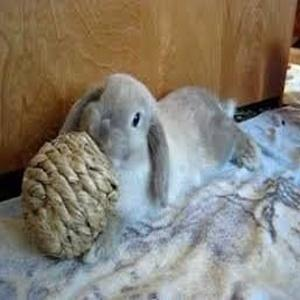rabbit: (58, 74, 259, 222)
